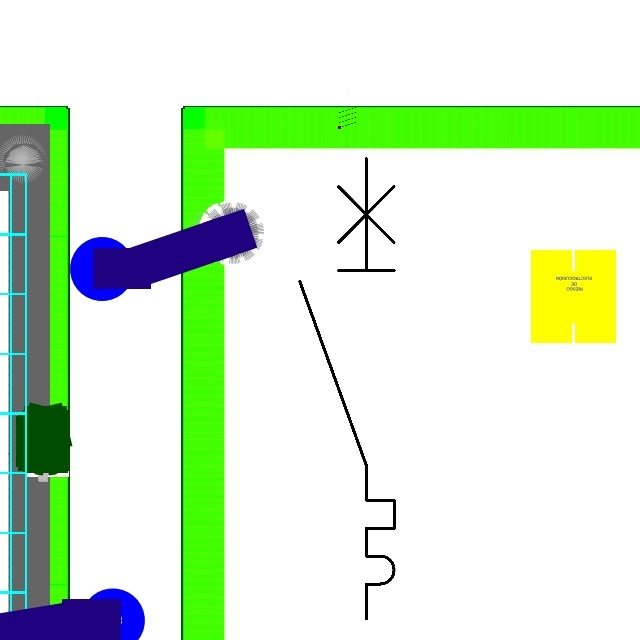interruptor_termomagnetico: (288, 146, 406, 630)
